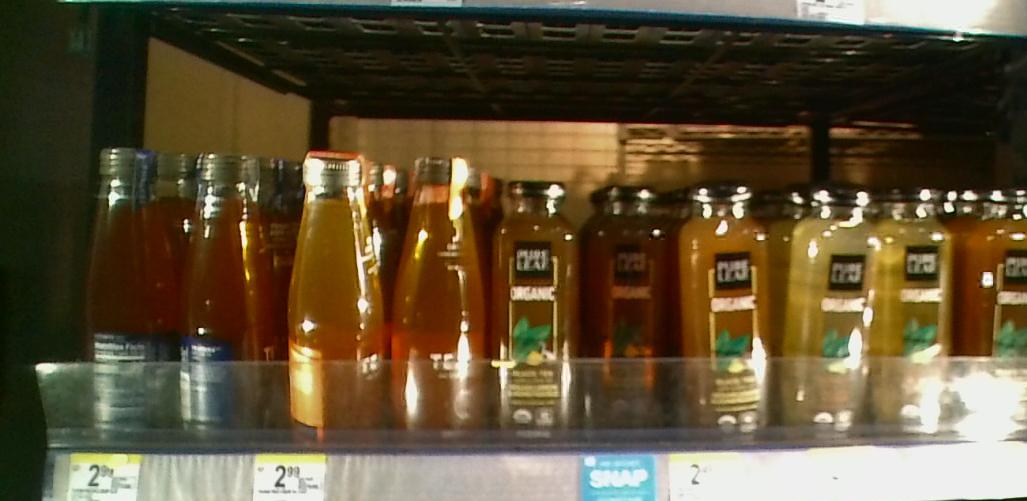bottle: (287, 148, 390, 445), (79, 125, 173, 439), (181, 149, 277, 446), (488, 168, 584, 442), (678, 181, 776, 439), (401, 146, 485, 445), (786, 184, 882, 429), (594, 170, 667, 449), (882, 190, 952, 431), (976, 183, 1027, 437)
